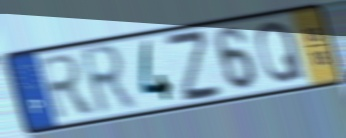4: (138, 38, 176, 106)
6: (214, 25, 259, 93)
Q: (254, 20, 308, 87)
R: (77, 41, 140, 120), (36, 52, 99, 124)
Z: (161, 30, 227, 106)
